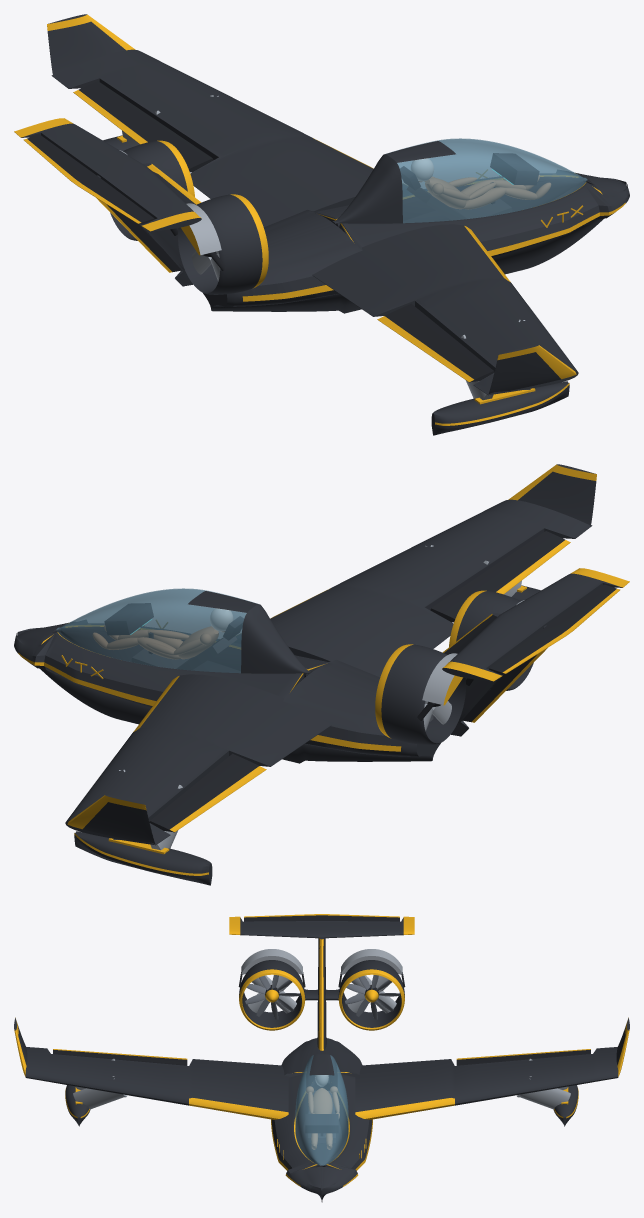
The model's file is C_hardtop__reclined_50.glb.
3 renders of one model, top to bottom at view 1: azimuth 30°, elevation 25°; view 2: azimuth 150°, elevation 25°; view 3: azimuth 270°, elevation 25°, orthographic. The views are drawn at different scales.
Parts seen in each view (by area): view 1: Ricochet_Wing_Port, Ricochet_ConceptA_Hull_Cabin, Ricochet_Wing_Stbd, Ricochet_Canopy_Glass, Ricochet_Tail_Pylon_T_Tail, Ricochet_Duct_Stbd, Ricochet_Aileron_Port, Ricochet_Aileron_Stbd, Ricochet_Sponson_Stbd, Ricochet_Winglet_Port, Study_Pilot_Manikin, Ricochet_Winglet_Stbd (+5 smaller); view 2: Ricochet_Wing_Stbd, Ricochet_ConceptA_Hull_Cabin, Ricochet_Wing_Port, Ricochet_Canopy_Glass, Ricochet_Tail_Pylon_T_Tail, Ricochet_Duct_Port, Ricochet_Aileron_Stbd, Ricochet_Aileron_Port, Ricochet_Sponson_Port, Ricochet_Winglet_Stbd, Study_Pilot_Manikin, Ricochet_Winglet_Port (+5 smaller); view 3: Ricochet_Wing_Port, Ricochet_Wing_Stbd, Ricochet_ConceptA_Hull_Cabin, Ricochet_Canopy_Glass, Ricochet_Tail_Pylon_T_Tail, Ricochet_Duct_Port, Ricochet_Duct_Stbd, Study_Pilot_Manikin, Ricochet_Elevator, Ricochet_Aileron_Port, Ricochet_Aileron_Stbd, Ricochet_Fan_Rotor_Port (+8 smaller).
Part boxes in pixels (x1=…): Ricochet_Wing_Port: x1=51, y1=49, x2=373, y2=227; Ricochet_ConceptA_Hull_Cabin: x1=203, y1=172, x2=629, y2=313; Ricochet_Wing_Stbd: x1=312, y1=224, x2=578, y2=395; Ricochet_Canopy_Glass: x1=332, y1=138, x2=587, y2=223; Ricochet_Tail_Pylon_T_Tail: x1=14, y1=118, x2=201, y2=286; Ricochet_Duct_Stbd: x1=178, y1=194, x2=268, y2=294; Ricochet_Aileron_Port: x1=73, y1=81, x2=213, y2=172; Ricochet_Aileron_Stbd: x1=377, y1=303, x2=494, y2=382; Ricochet_Sponson_Stbd: x1=431, y1=381, x2=569, y2=435; Ricochet_Winglet_Port: x1=47, y1=14, x2=135, y2=75; Study_Pilot_Manikin: x1=411, y1=158, x2=550, y2=209; Ricochet_Winglet_Stbd: x1=488, y1=345, x2=576, y2=394; Ricochet_Wing_Stbd: x1=270, y1=499, x2=592, y2=677; Ricochet_ConceptA_Hull_Cabin: x1=14, y1=622, x2=440, y2=763; Ricochet_Wing_Port: x1=65, y1=674, x2=331, y2=845; Ricochet_Canopy_Glass: x1=56, y1=588, x2=311, y2=673; Ricochet_Tail_Pylon_T_Tail: x1=442, y1=568, x2=629, y2=736; Ricochet_Duct_Port: x1=375, y1=644, x2=465, y2=744; Ricochet_Aileron_Stbd: x1=430, y1=531, x2=570, y2=622; Ricochet_Aileron_Port: x1=149, y1=753, x2=266, y2=832; Ricochet_Sponson_Port: x1=74, y1=831, x2=212, y2=885; Ricochet_Winglet_Stbd: x1=508, y1=464, x2=596, y2=525; Study_Pilot_Manikin: x1=93, y1=608, x2=232, y2=659; Ricochet_Winglet_Port: x1=67, y1=795, x2=155, y2=844; Ricochet_Wing_Port: x1=355, y1=1047, x2=618, y2=1119; Ricochet_Wing_Stbd: x1=25, y1=1047, x2=288, y2=1119; Ricochet_ConceptA_Hull_Cabin: x1=271, y1=1038, x2=372, y2=1202; Ricochet_Canopy_Glass: x1=295, y1=1054, x2=348, y2=1165; Ricochet_Tail_Pylon_T_Tail: x1=229, y1=916, x2=414, y2=1050; Ricochet_Duct_Port: x1=338, y1=960, x2=404, y2=1030; Ricochet_Duct_Stbd: x1=239, y1=960, x2=305, y2=1030; Study_Pilot_Manikin: x1=306, y1=1075, x2=339, y2=1149; Ricochet_Elevator: x1=244, y1=914, x2=399, y2=921; Ricochet_Aileron_Port: x1=456, y1=1049, x2=590, y2=1065; Ricochet_Aileron_Stbd: x1=53, y1=1049, x2=187, y2=1065; Ricochet_Fan_Rotor_Port: x1=345, y1=975, x2=399, y2=1019.
Bounding box in the file's own units: 6.78 × 2.34 × 9.64.
